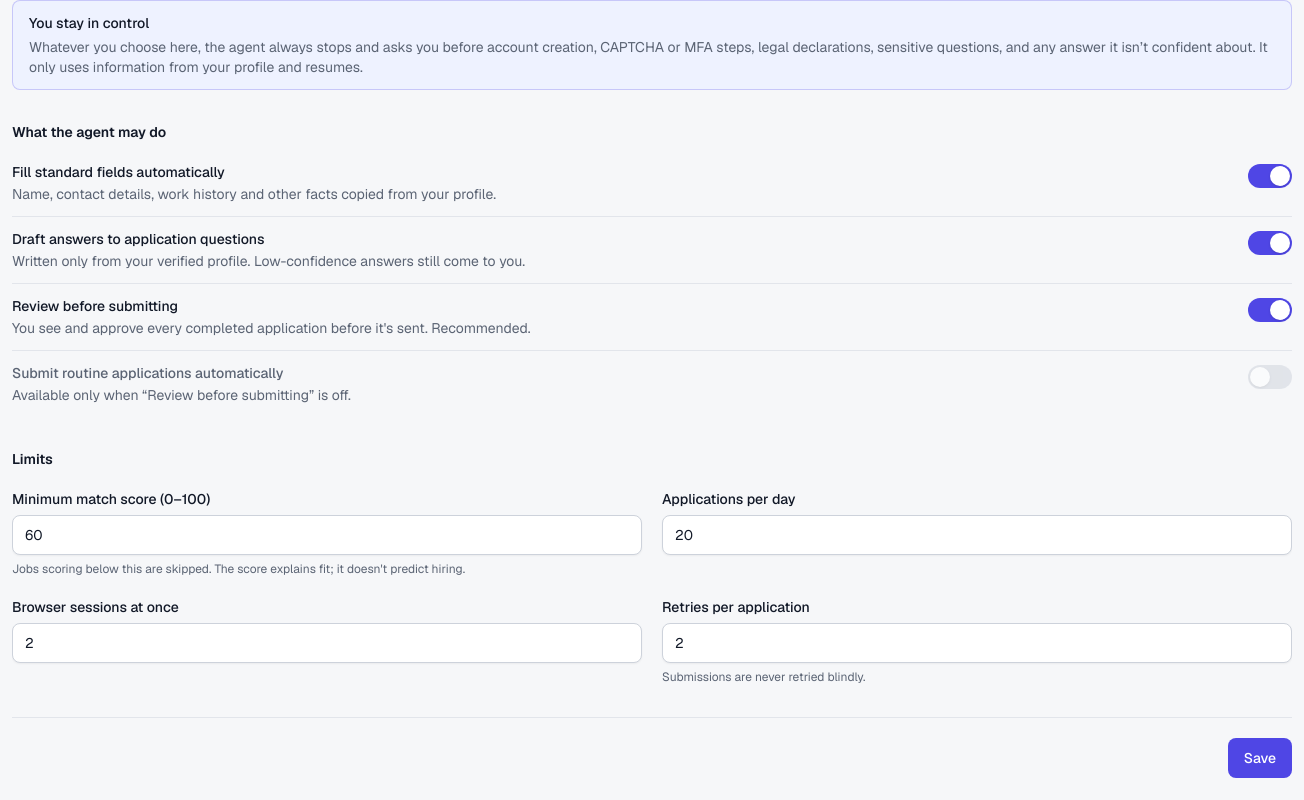
AgentSettingsForm › shows platform-limit errors from the API on the right field
The width and height of the screenshot is (1304, 800).
Check: the 3rd switch named "review before submitting" is shown, box [1248,298,1292,322]
Replace the text in the field labelled "Applications per day" with "500" at (977, 535), box [662,515,1292,555]
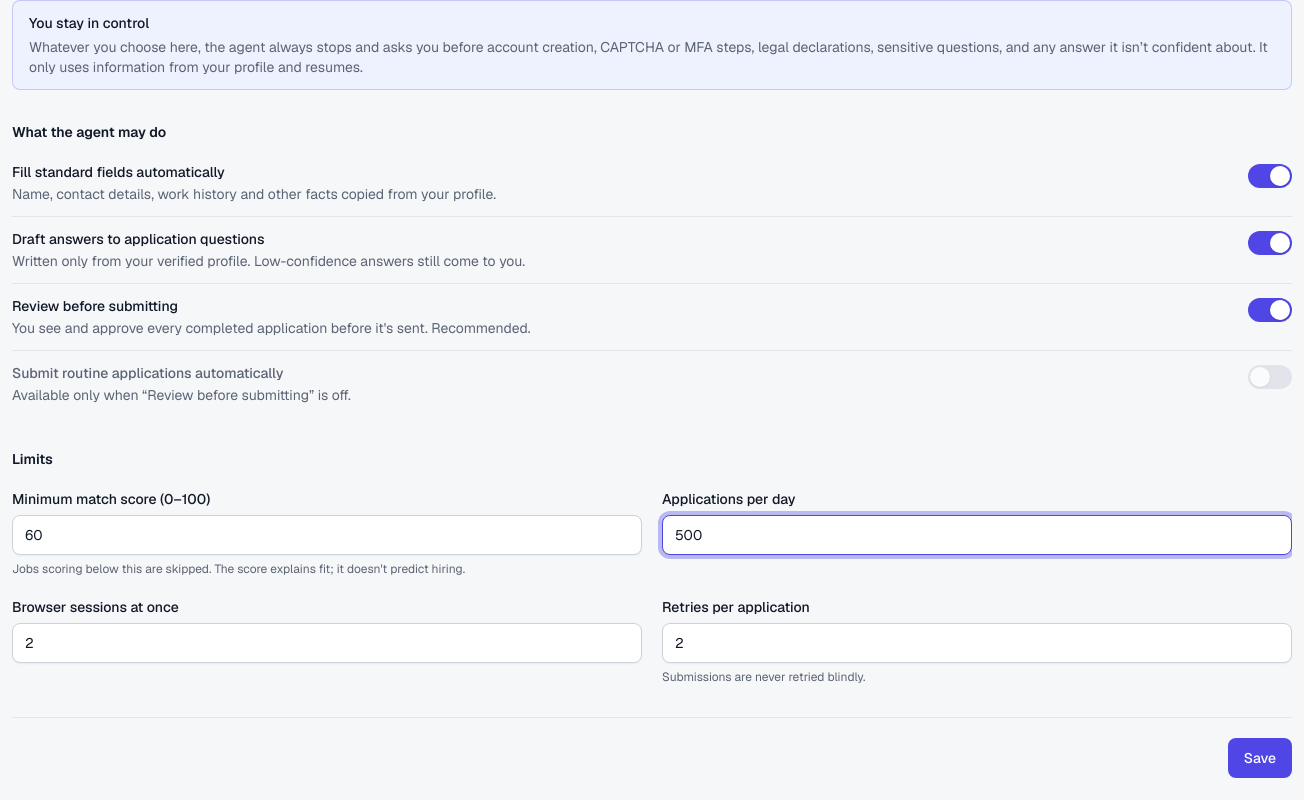
Click the button "Save" at (1260, 758), box [1228,738,1292,778]
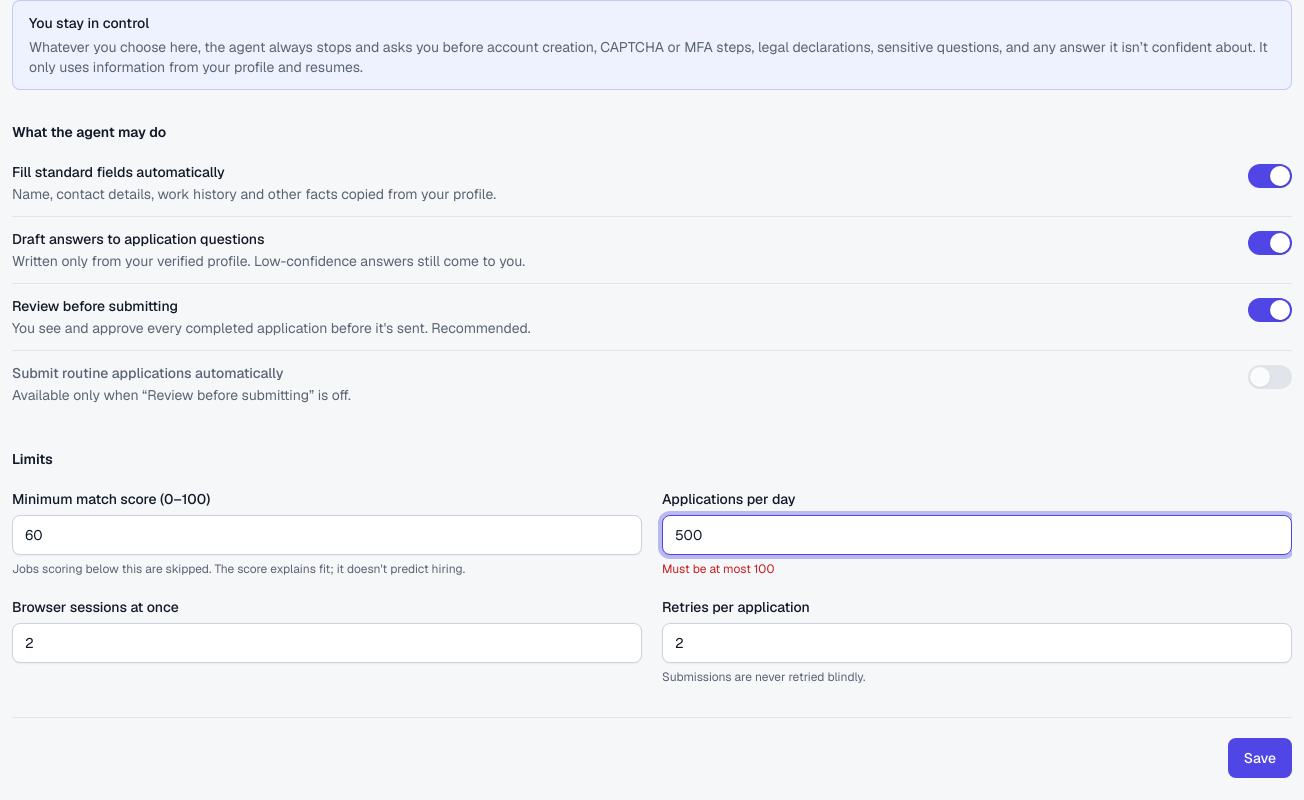
Check: the text "Must be at most 100" is shown, box [662,561,774,577]
